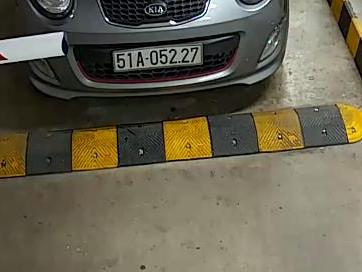car: (110, 43, 205, 72)
